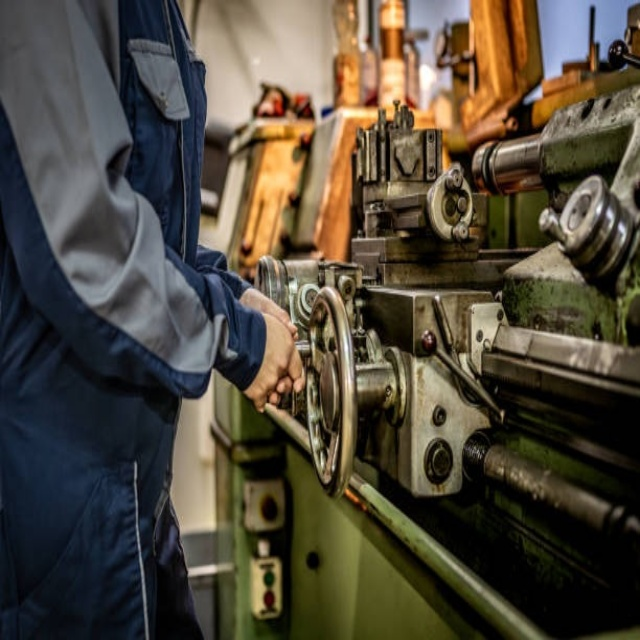Sin_guantes: (238, 291, 307, 412)
